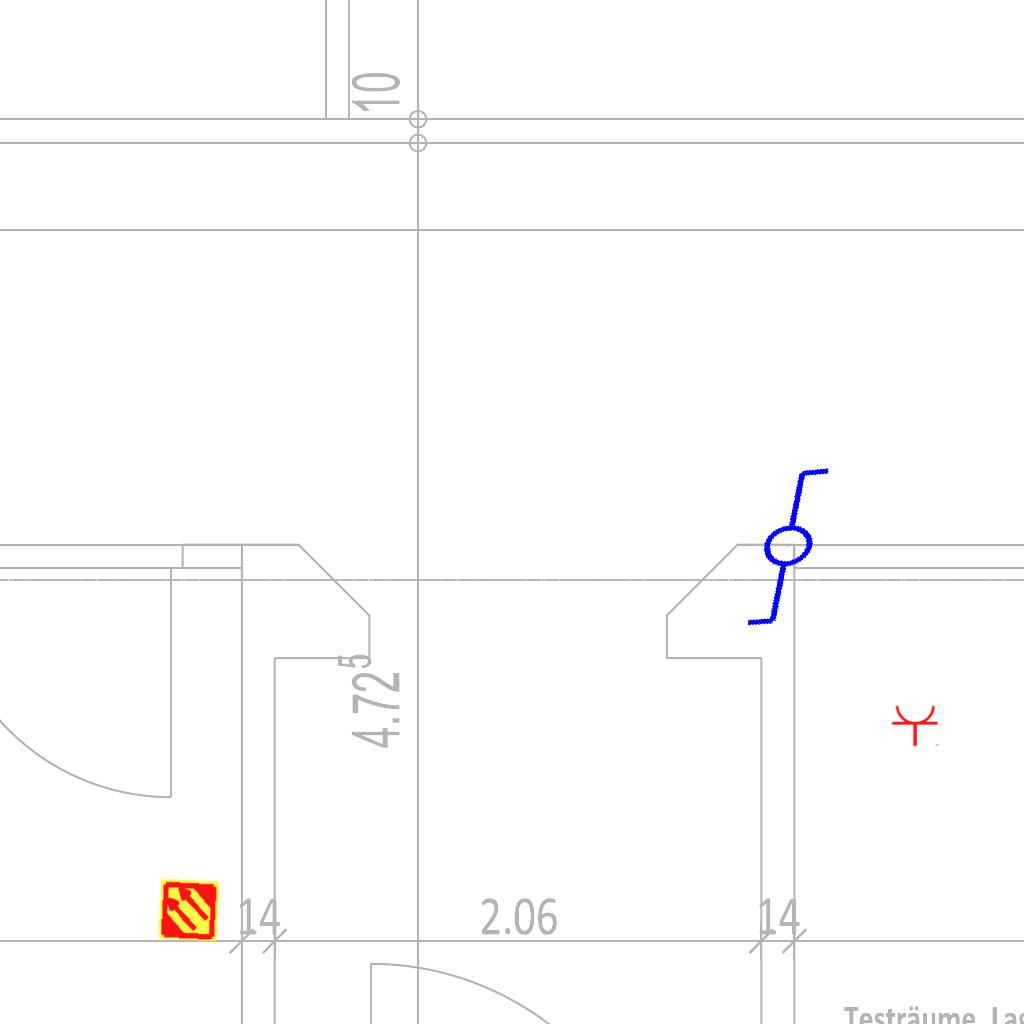ASR_Ansaugrauchmelder: (156, 877, 222, 943)
Schukosteckdose_einfach: (891, 704, 941, 747)
Wechselschalter: (697, 449, 896, 641)
